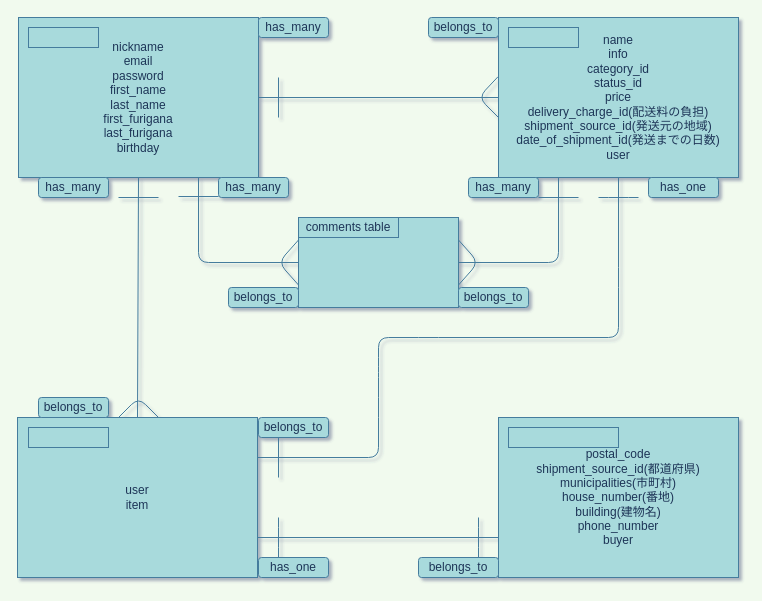
Some shapes in this 762 by 601 pixel diagram are drawn without their labels. Each missing label, with the box of its shape:
addresses table: (508, 426, 618, 448)
buyers table: (28, 426, 108, 448)
items table: (508, 26, 578, 48)
text user item: (298, 216, 458, 308)
users table: (28, 26, 98, 48)
